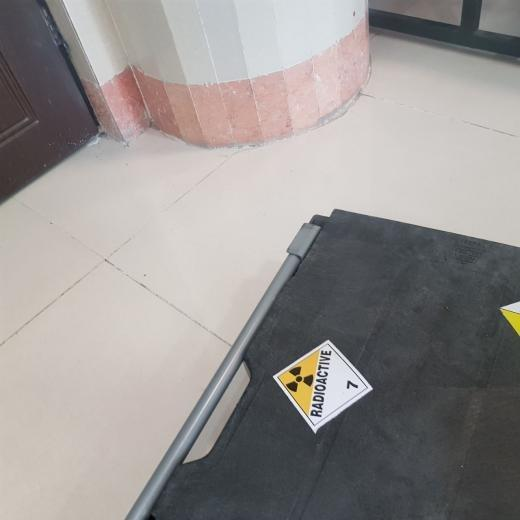radioactive: (272, 338, 376, 436)
